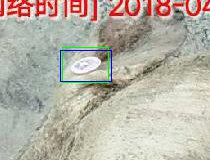text: (62, 47, 108, 82)
